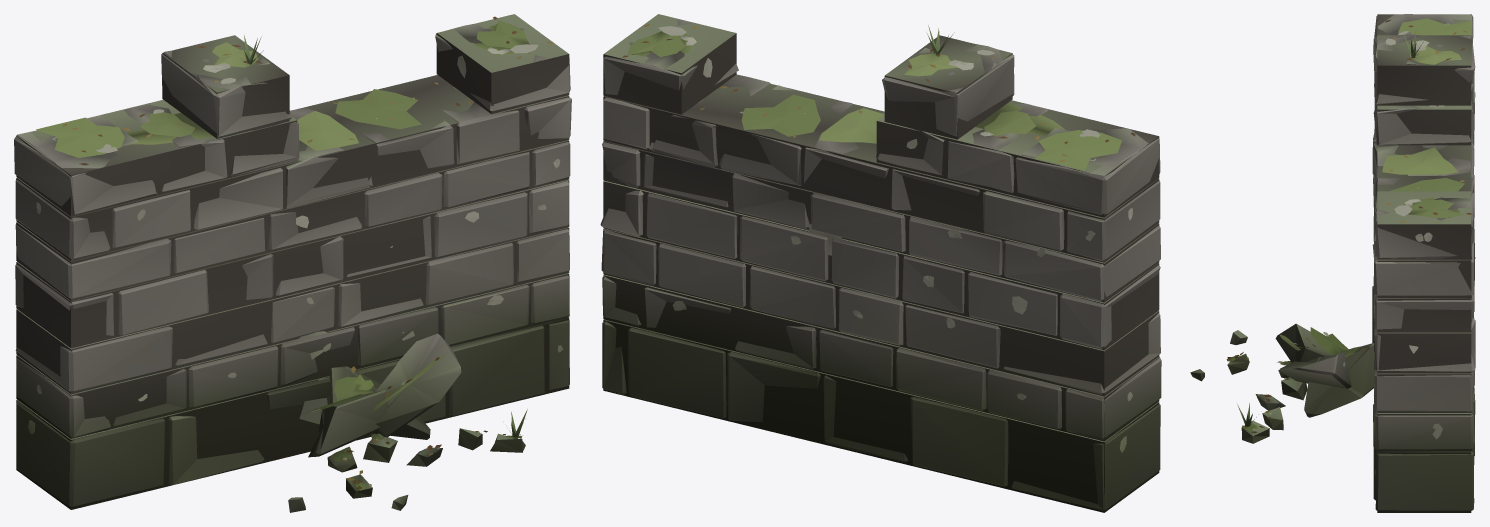
The model's file is vault_wall_b.glb.
3 renders of one model, left to right at view 1: azimuth 30°, elevation 25°; view 2: azimuth 150°, elevation 25°; view 3: azimuth 270°, elevation 25°, orthographic. The views are drawn at different scales.
Visible parts, largest first — view 1: vault_wall_b; view 2: vault_wall_b; view 3: vault_wall_b.
Part boxes in pixels (bbox=[...]): vault_wall_b: bbox=[14, 14, 571, 512]; vault_wall_b: bbox=[600, 14, 1161, 512]; vault_wall_b: bbox=[1190, 14, 1475, 512].
Size of what is drawn, in the model's own units: 6.01 by 4.68 by 3.42.
